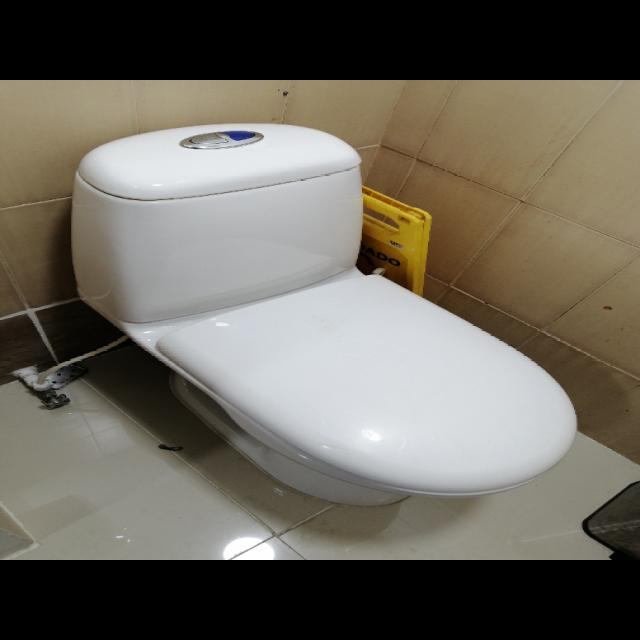toilet: (68, 122, 578, 507)
